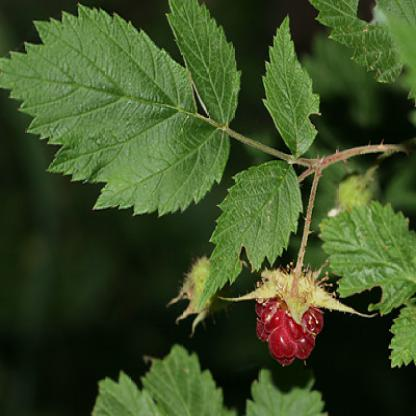Raspberry leaf: (1, 1, 242, 212), (188, 150, 307, 313), (258, 12, 321, 160)
